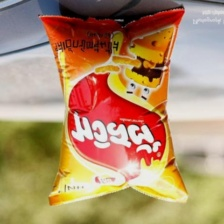snack: (30, 0, 193, 211)
